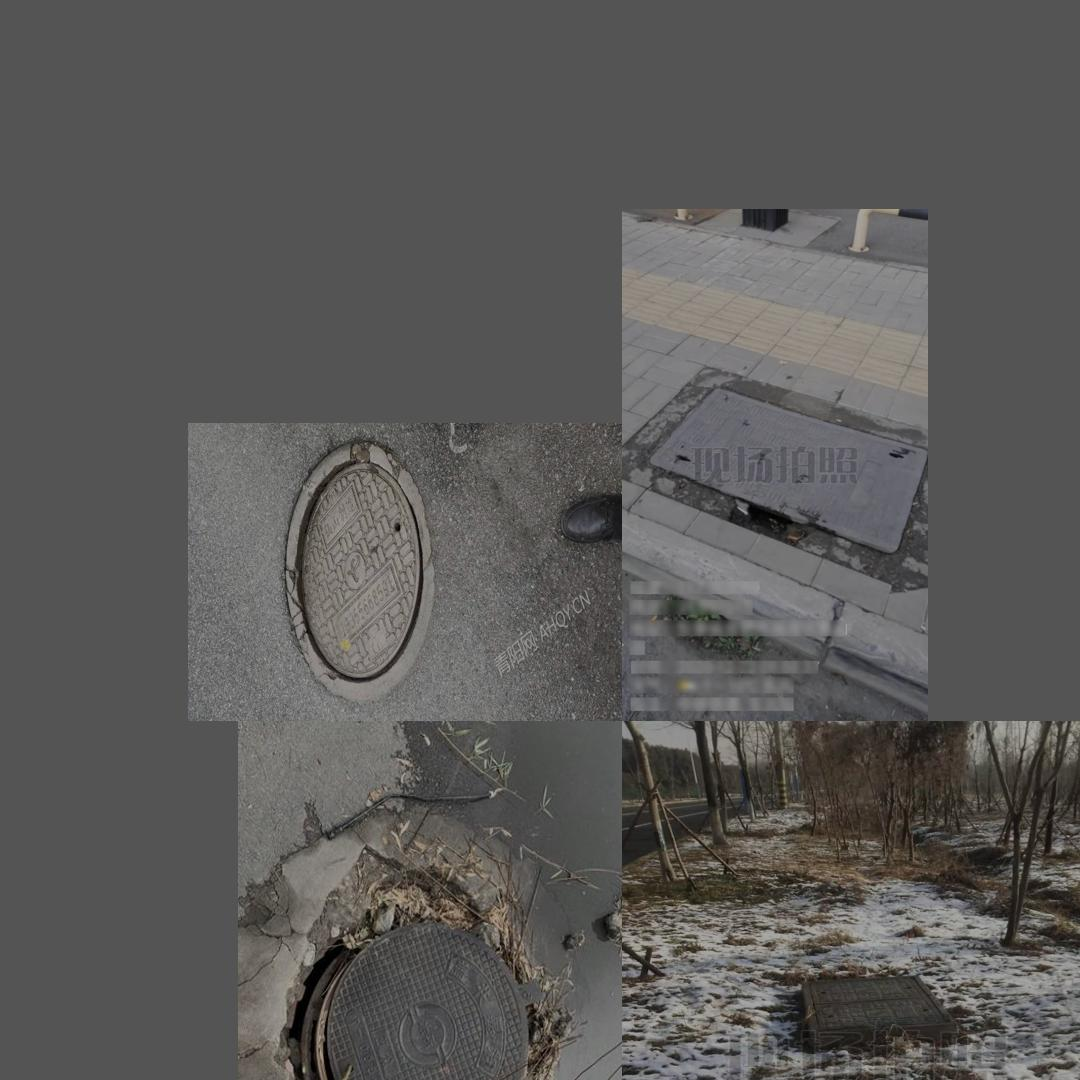circle: (243, 802, 583, 1080), (625, 366, 928, 571), (264, 439, 444, 699), (794, 975, 969, 1057)
